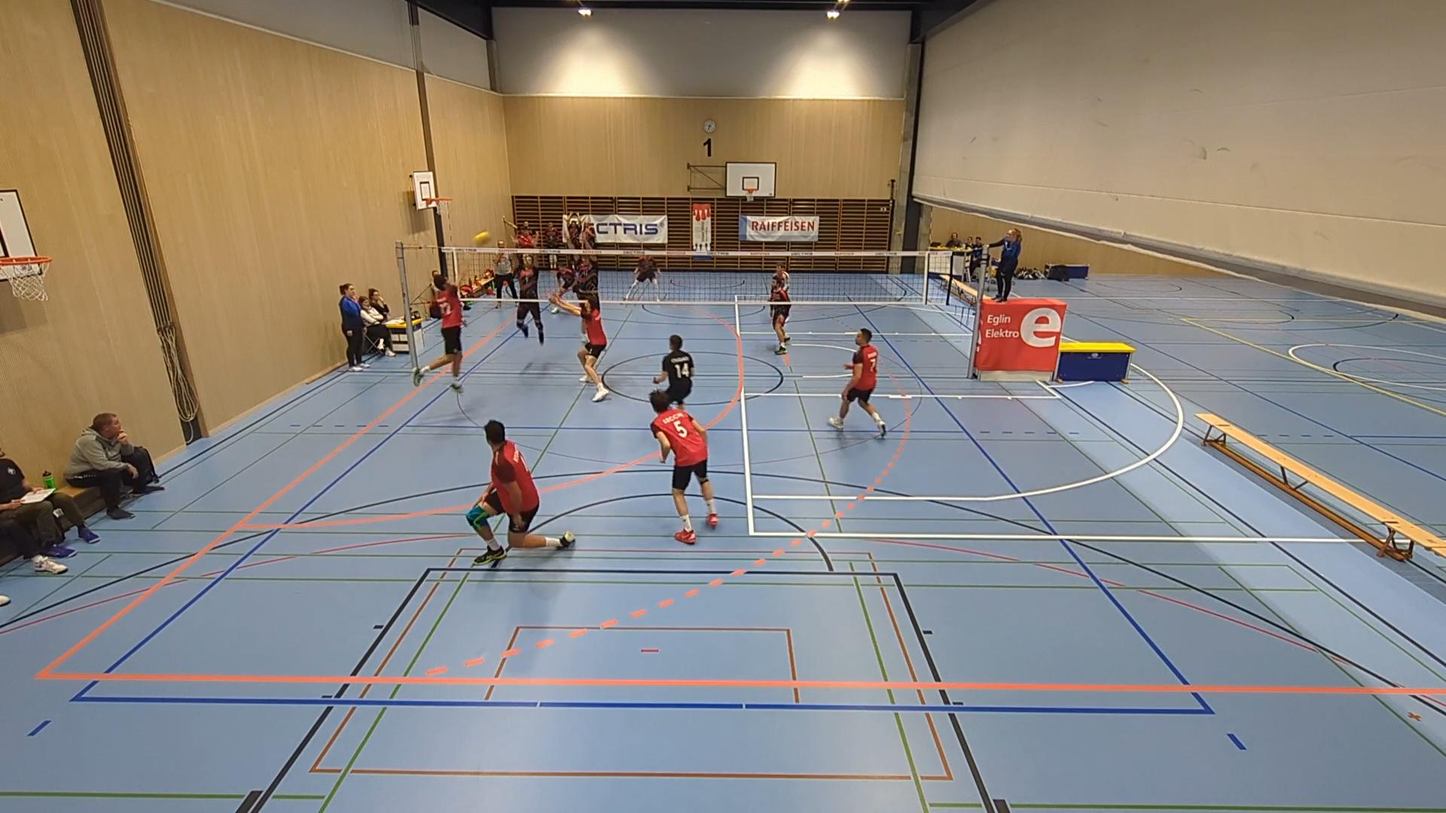attacco: (408, 277, 470, 395)
muro: (507, 222, 547, 348), (564, 220, 604, 312)
